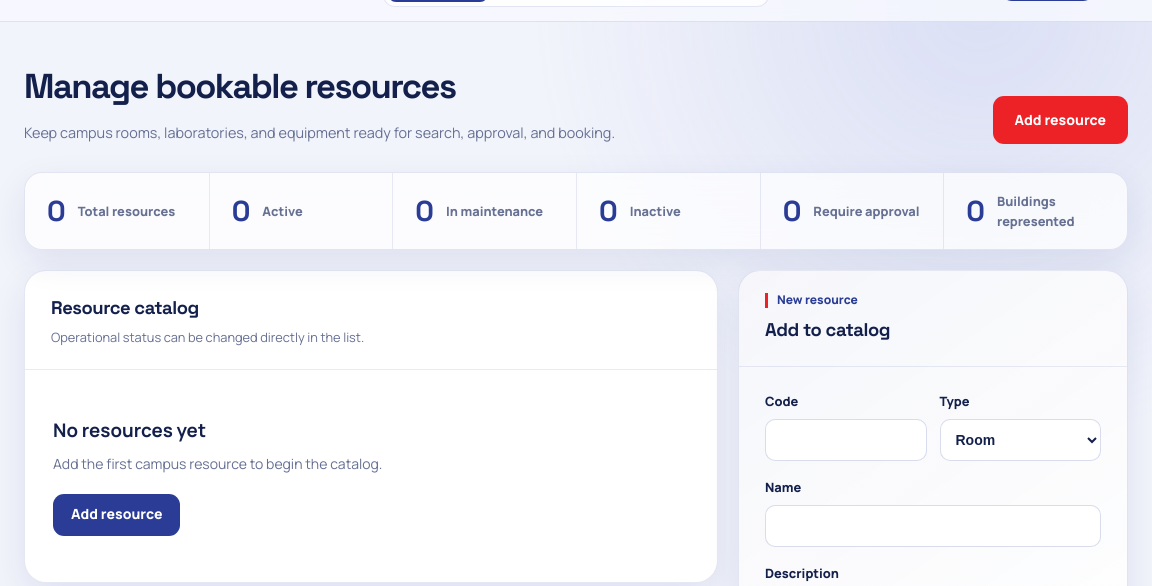
Test: AdminResourceManager › restores save focus when a resource mutation fails
Type "room-a103" into the field labelled "Code".
click(846, 440); type("room-a103")  # box [765,419,926,461]
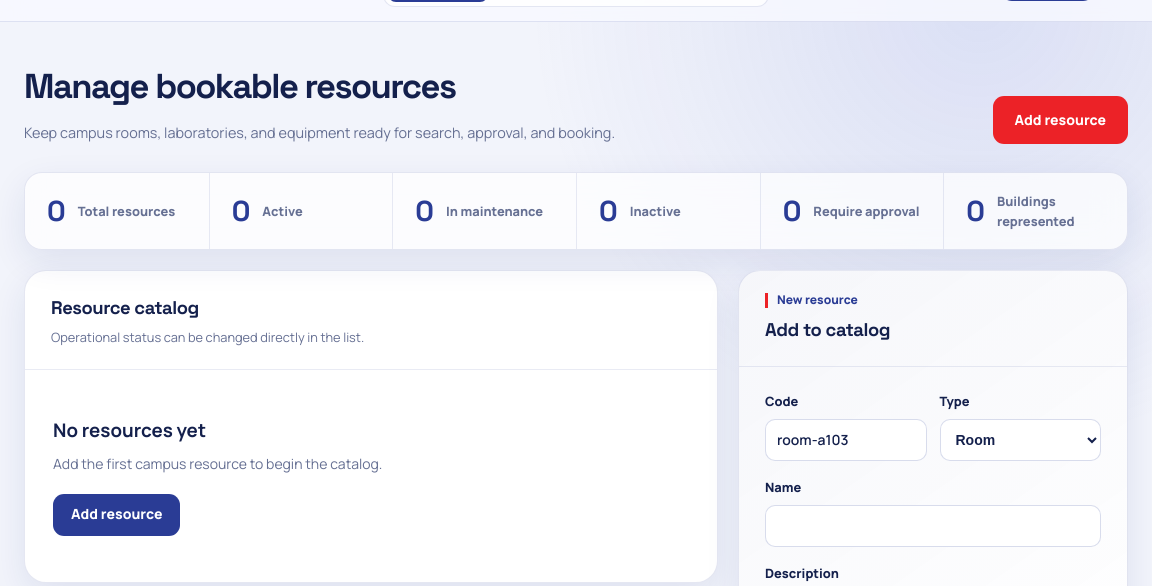
Type "Collaboration Room" into the field labelled "Name".
click(933, 526); type("Collaboration Room")  # box [765,505,1101,547]
(page scrolled)
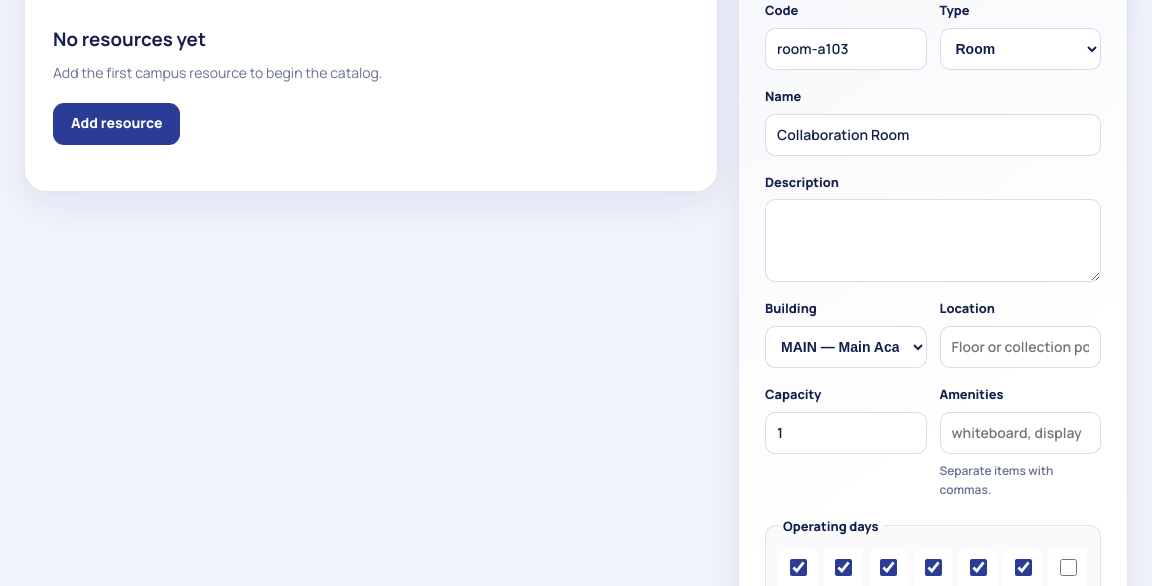
Type "Ground floor" into the field labelled "Location".
click(1020, 347); type("Ground floor")  # box [940,326,1101,368]
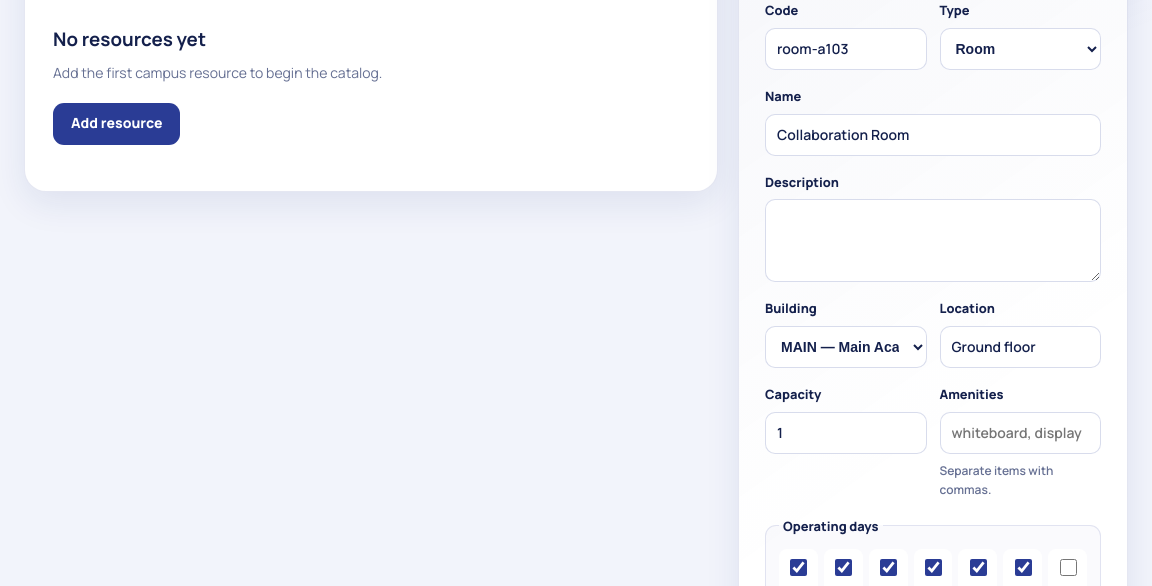
Replace the text in the number field labelled "Capacity" with "10" at (846, 433), box [765,412,926,454]
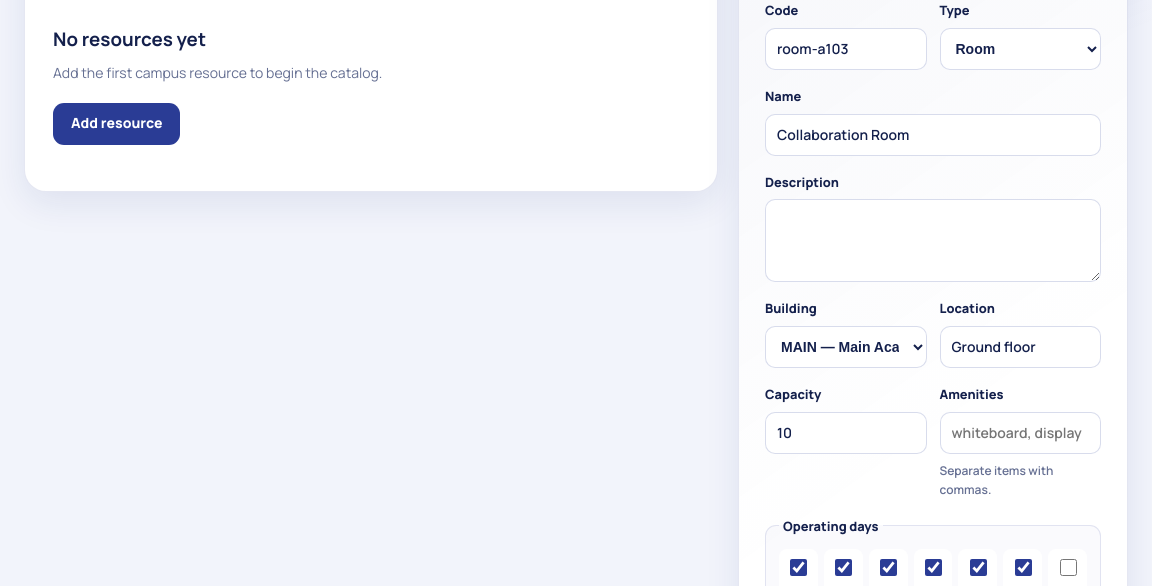
Type "Whiteboard, Display" into the field labelled "Amenities".
click(1020, 433); type("Whiteboard, Display")  # box [940,412,1101,454]
(page scrolled)
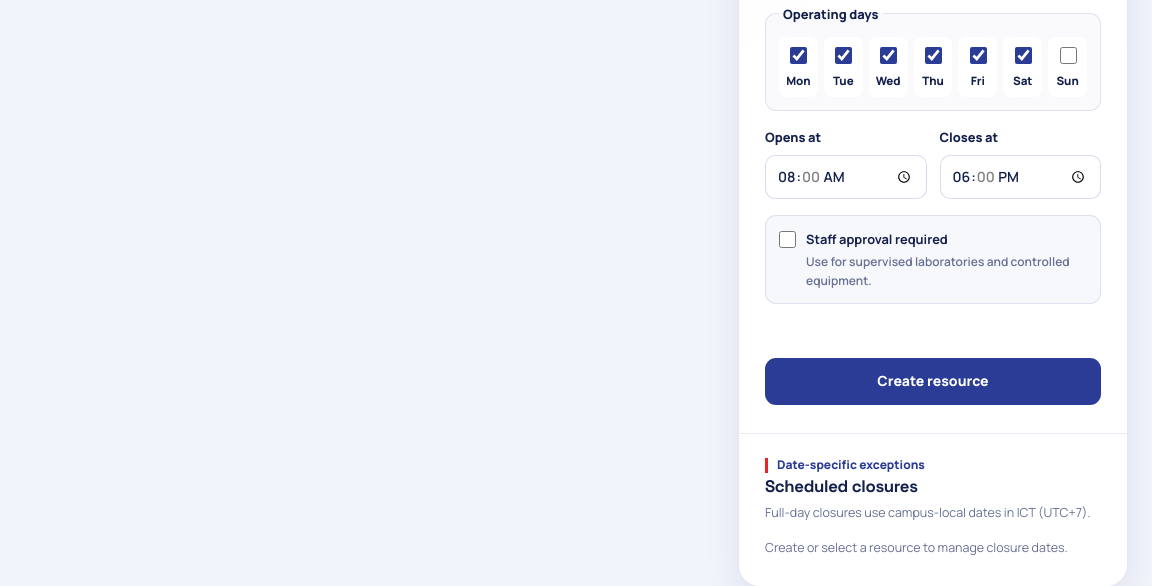
Click the button "Create resource".
click(933, 382)  # box [765,358,1101,405]
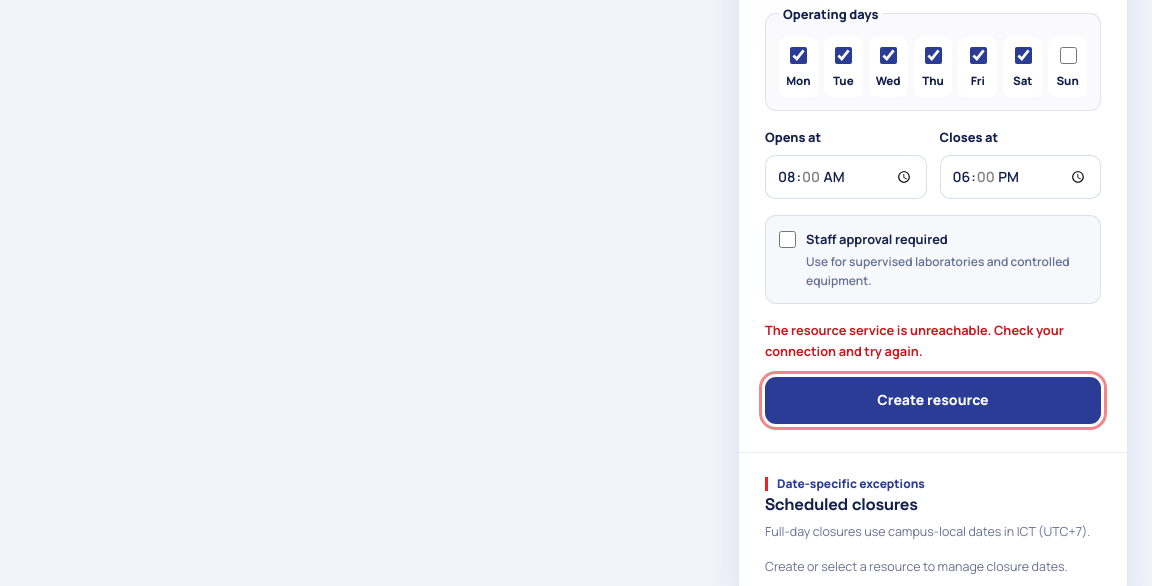
Expected: the text "The resource service is unreachable. Check your connection and try again." is shown, [765,320,1101,361]
